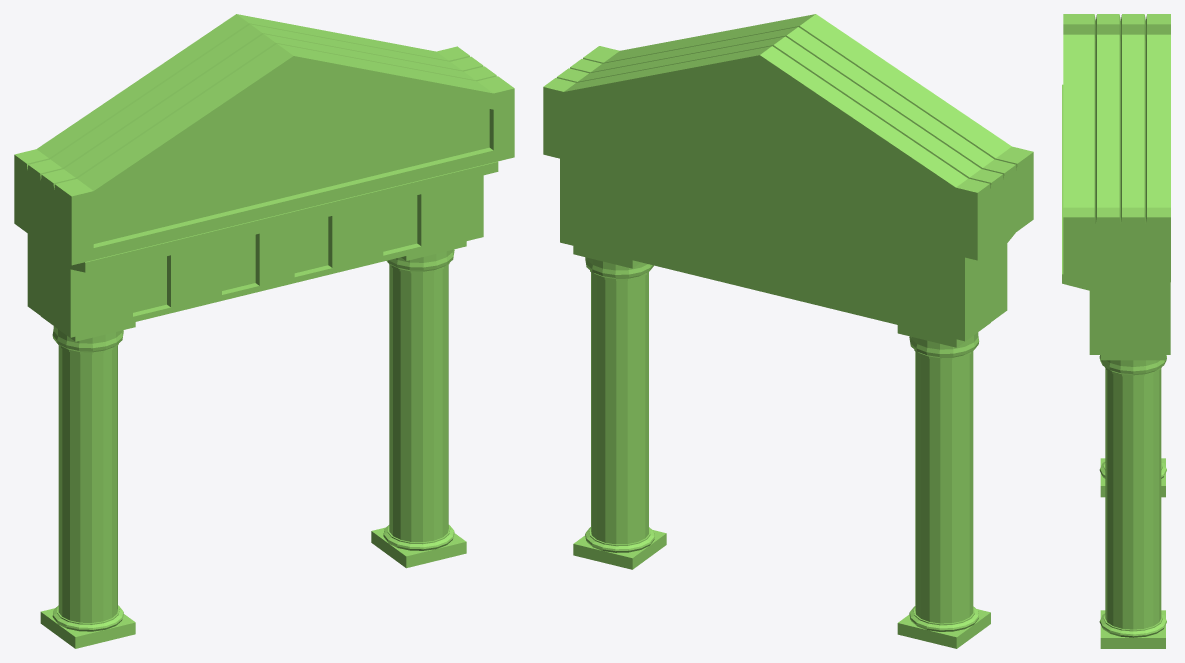
Rendered from arch1.glb.
3 renders of one model, left to right at view 1: azimuth 30°, elevation 25°; view 2: azimuth 150°, elevation 25°; view 3: azimuth 270°, elevation 25°, orthographic. The views are drawn at different scales.
Visible parts, largest first — view 1: Plane; view 2: Plane; view 3: Plane.
Boxes of the visible parts, x1=… form: Plane: x1=14, y1=14, x2=514, y2=648; Plane: x1=543, y1=14, x2=1033, y2=648; Plane: x1=1062, y1=14, x2=1170, y2=648.
Size of the model in its own units: 6.62 by 7.99 by 1.5.
